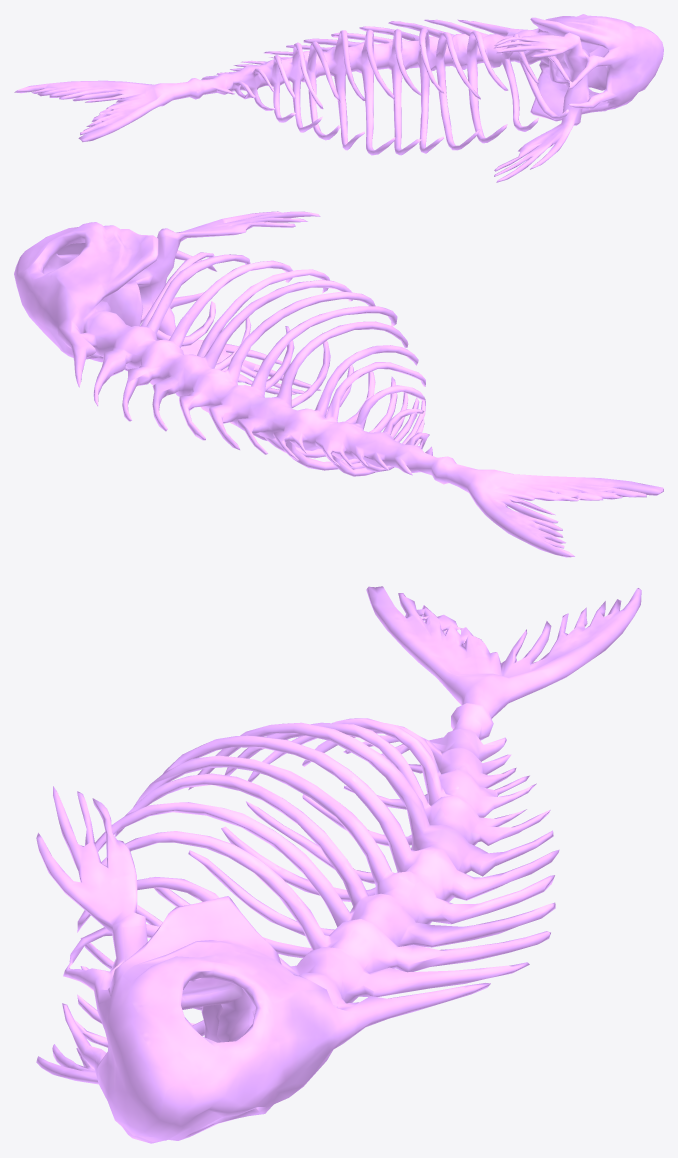
File: glow_bone_epic.glb
3 views of the same model, one above another, from view 1: azimuth 30°, elevation 25°; view 2: azimuth 150°, elevation 25°; view 3: azimuth 270°, elevation 25° (orthographic). The views are drawn at different scales.
Visible parts, largest first — view 1: glow_bone_epic; view 2: glow_bone_epic; view 3: glow_bone_epic.
Part boxes in pixels (x1,y1,x2,y2): glow_bone_epic: [14, 14, 663, 182]; glow_bone_epic: [14, 211, 663, 557]; glow_bone_epic: [36, 586, 641, 1143].
Bounding box in the file's own units: 0.3 × 0.0708 × 0.1479.
1 material, 1 textured.
